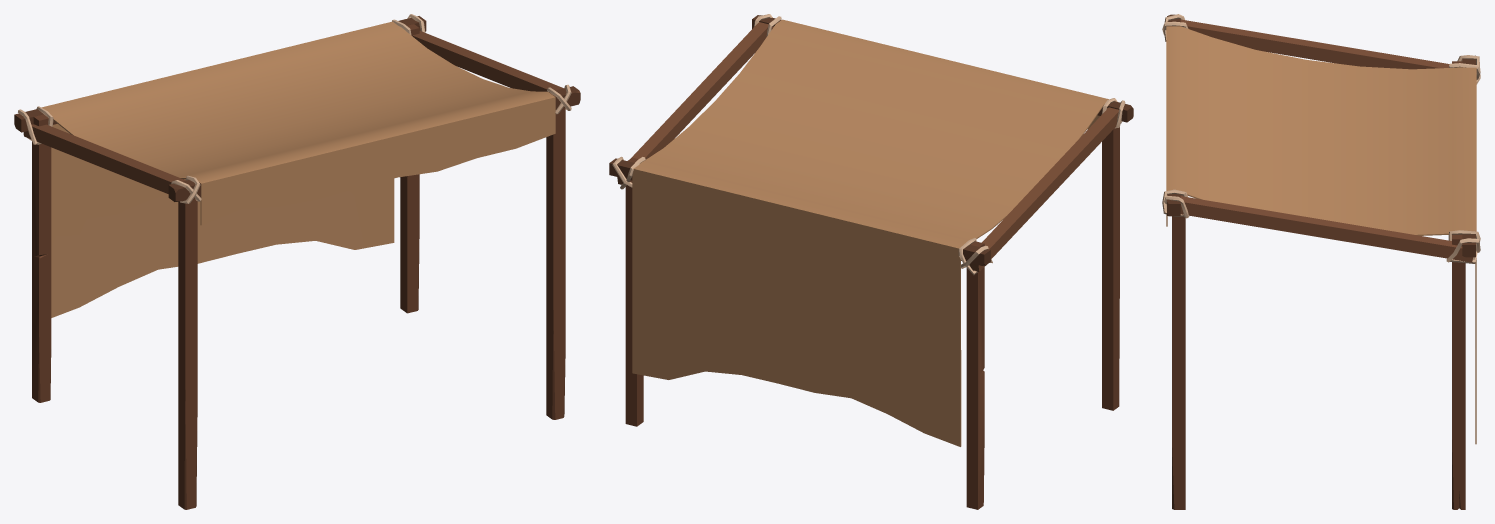
Rendered from Market_01.fbx.
3 renders of one model, left to right at view 1: azimuth 30°, elevation 25°; view 2: azimuth 150°, elevation 25°; view 3: azimuth 270°, elevation 25°, orthographic. The views are drawn at different scales.
Visible parts, largest first — view 1: Market_01; view 2: Market_01; view 3: Market_01.
Part boxes in pixels (x1,y1,x2,y2): Market_01: [14, 14, 580, 509]; Market_01: [609, 14, 1133, 509]; Market_01: [1162, 14, 1480, 509].
Size of the model in its own units: 330 by 256 by 235.
